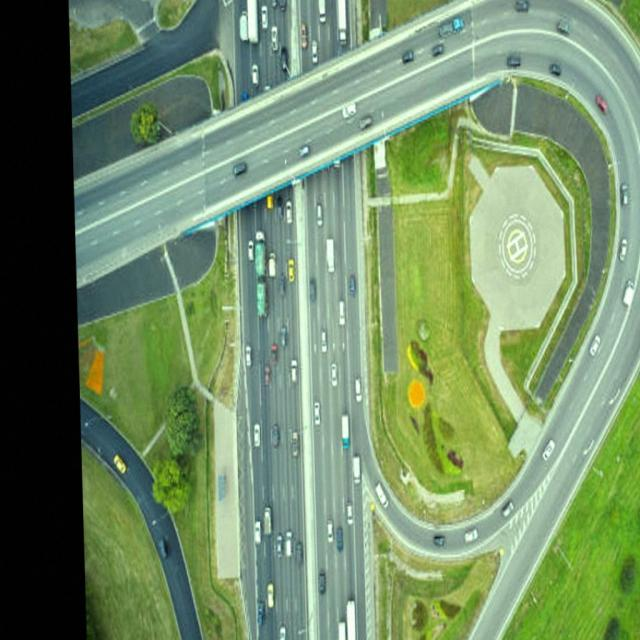helipad: (501, 218, 534, 274)
